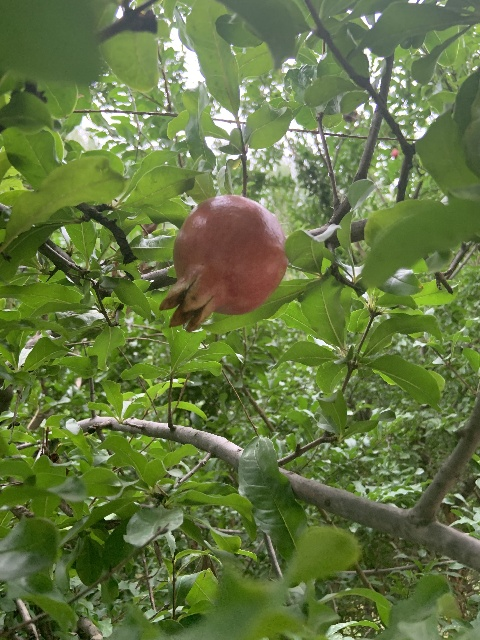ripe: (158, 194, 287, 331)
